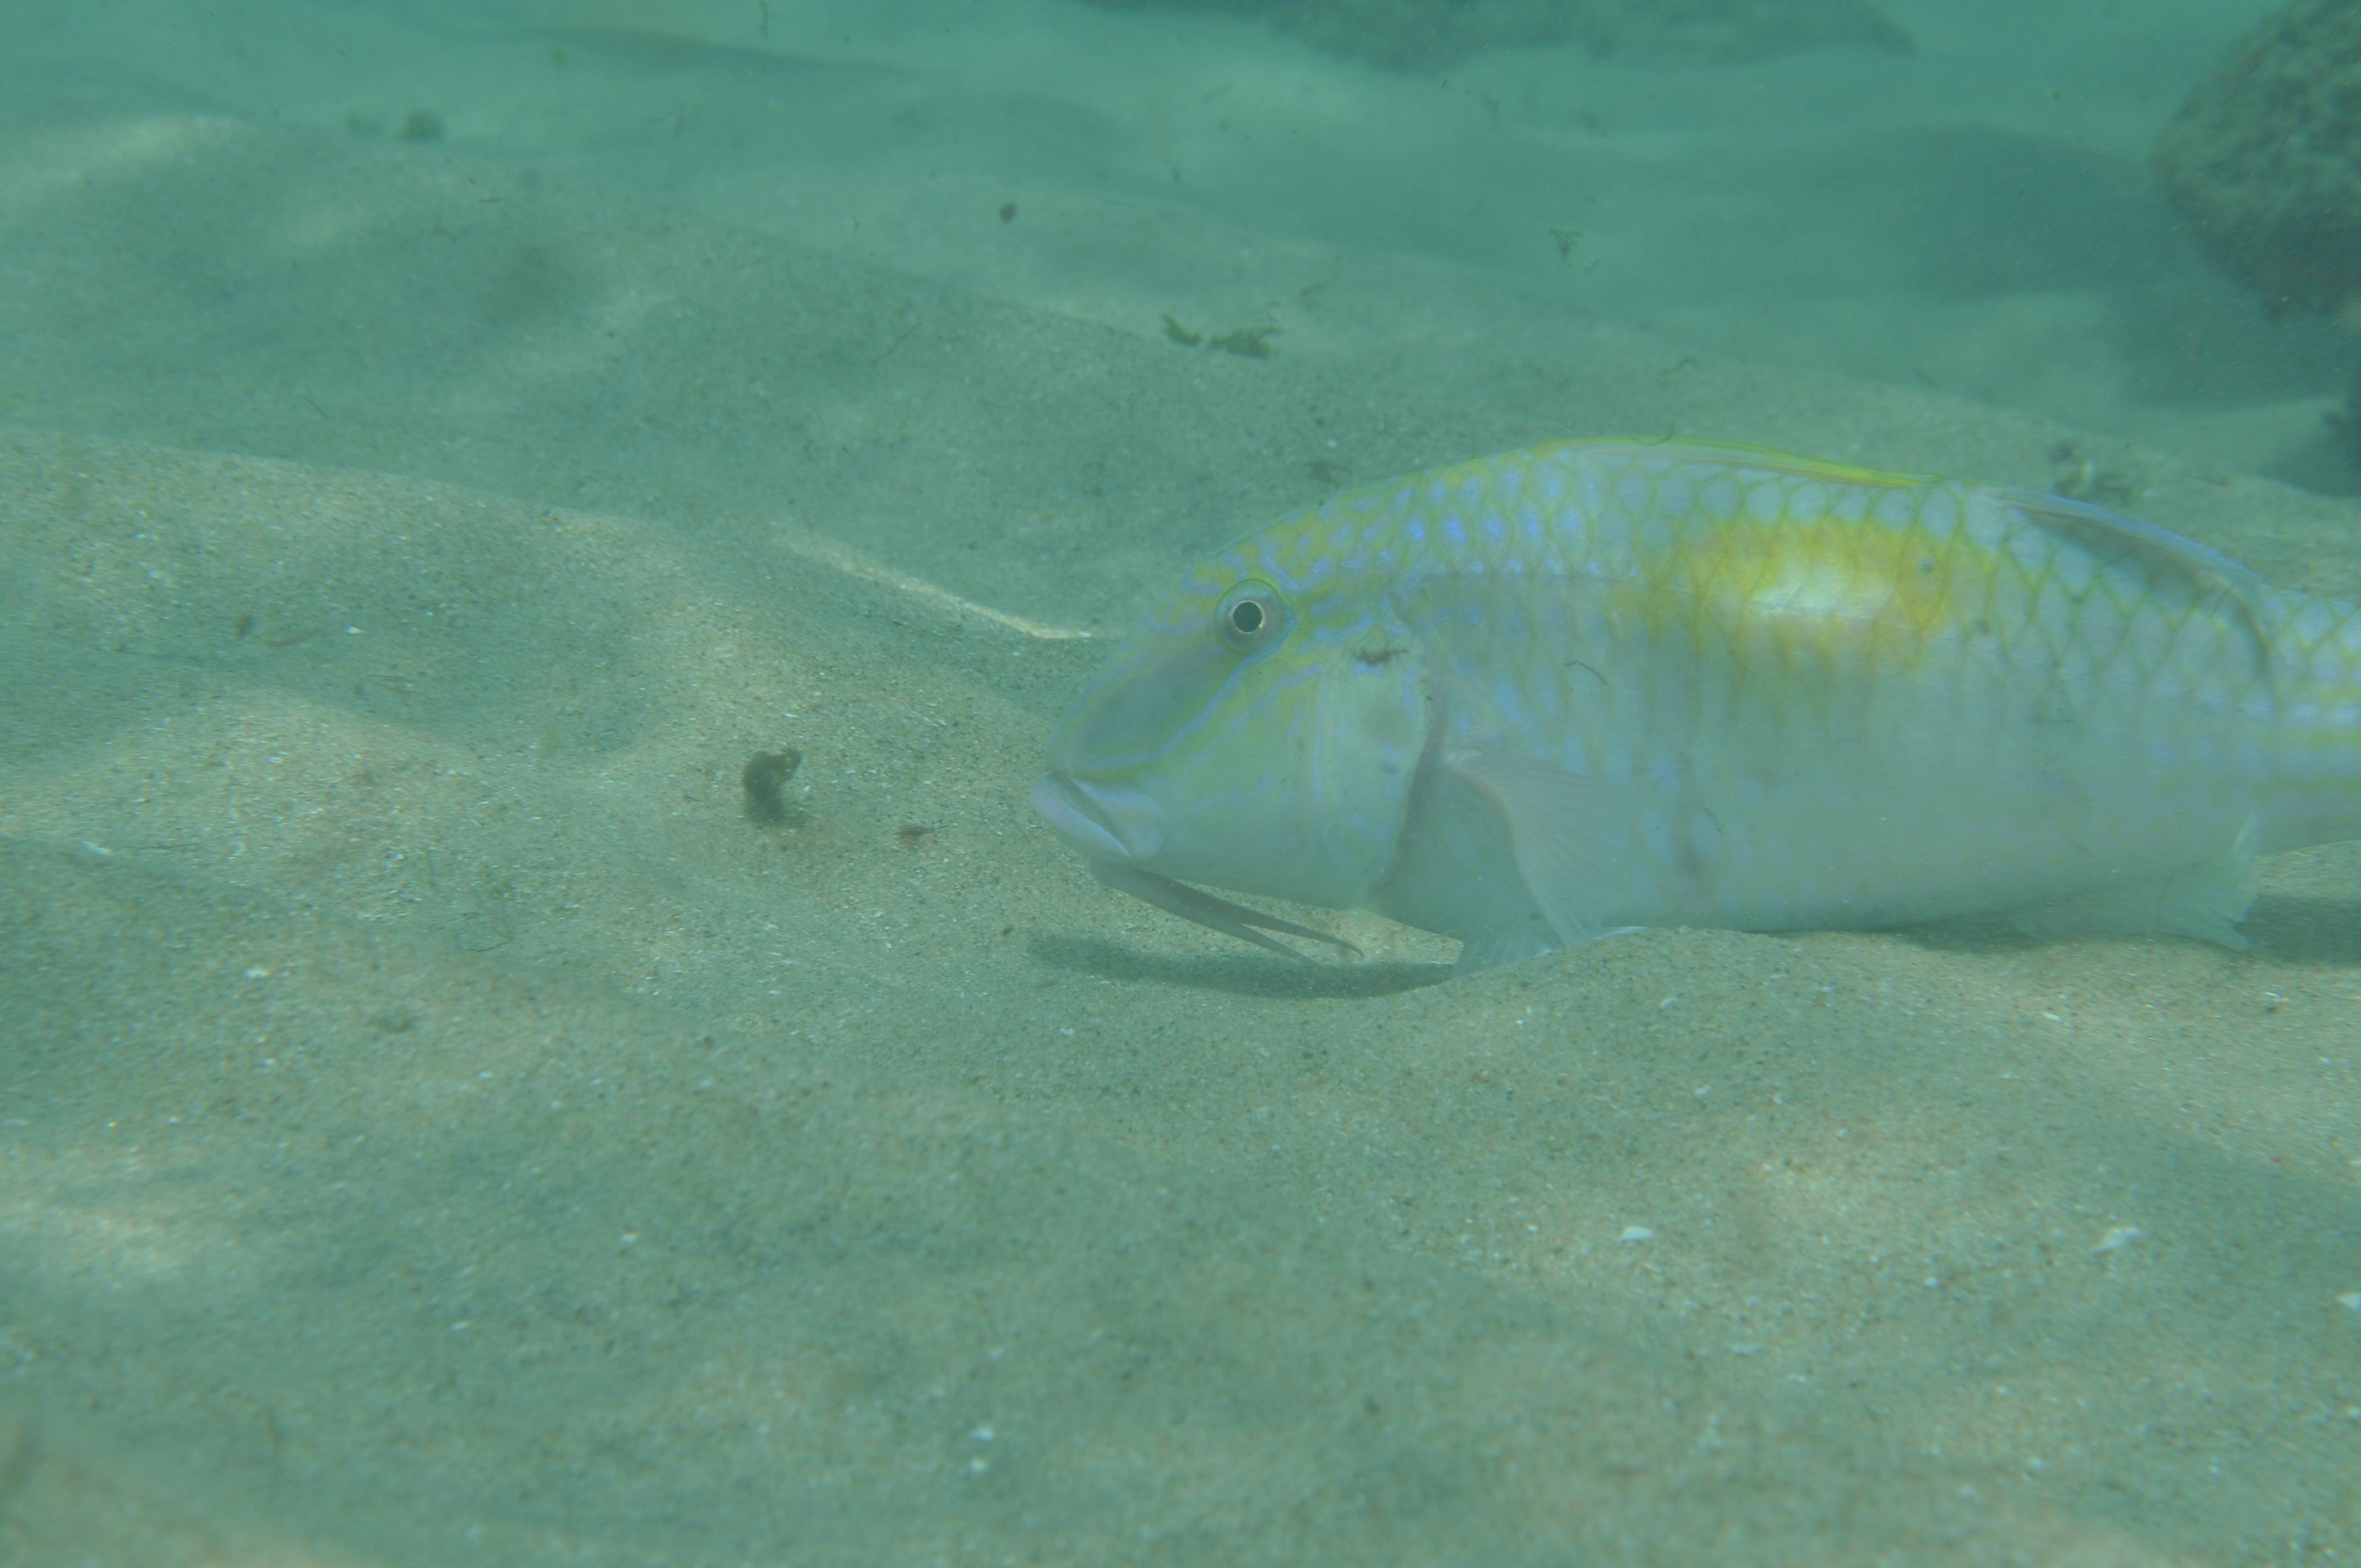Fish: (970, 373, 2361, 1027)
